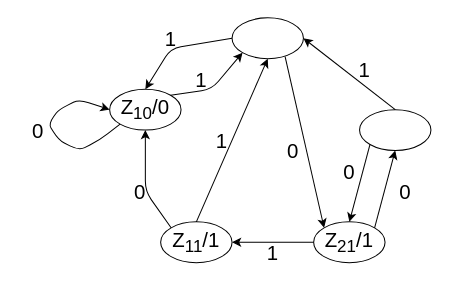
This 449x283 diagram has some shape labels left out. The centre of each missing label's shape, as x and y in pixels:
"Z 00 /0" belongs at (267,38).
"Z 01 /1" belongs at (395,129).
